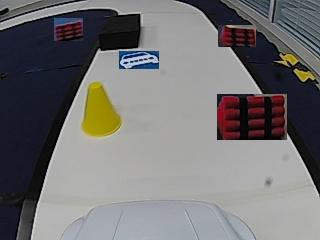block: (100, 13, 140, 49)
cone: (81, 82, 122, 137)
